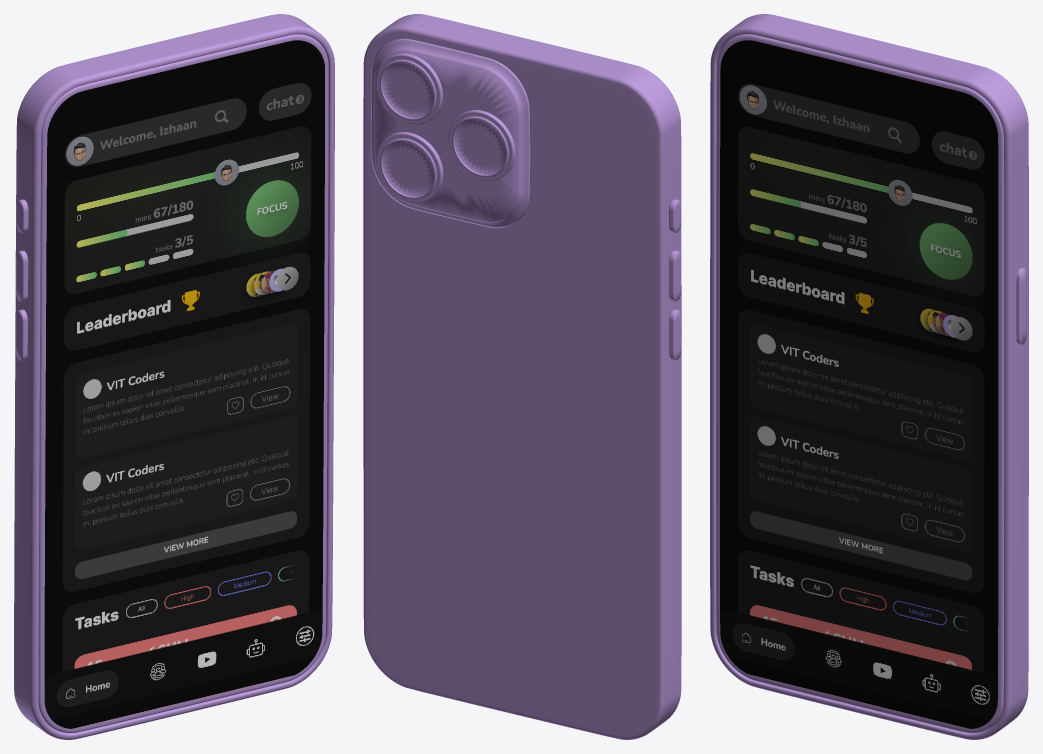
3 renders of one model, left to right at view 1: azimuth 30°, elevation 25°; view 2: azimuth 150°, elevation 25°; view 3: azimuth 330°, elevation 25°, orthographic.
Parts seen in each view (by area): view 1: Plane.007, Plane.005; view 2: Plane.005; view 3: Plane.007, Plane.005.
Part boxes in pixels (x1,y1,x2,y2): Plane.007: (44, 40, 324, 728); Plane.005: (14, 14, 334, 739); Plane.005: (363, 14, 681, 739); Plane.007: (720, 40, 998, 728); Plane.005: (710, 14, 1028, 739).
Size of the model in its own units: 2.05 by 4.18 by 0.3182.
2 materials, 1 textured.
